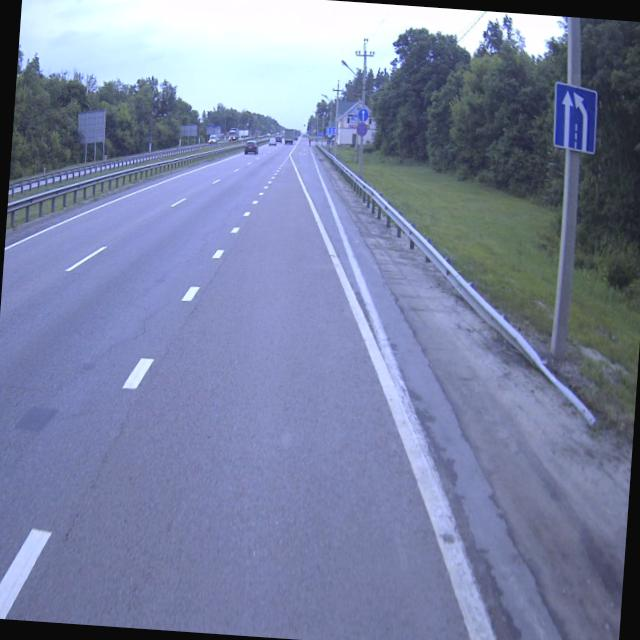road: (0, 138, 563, 640)
